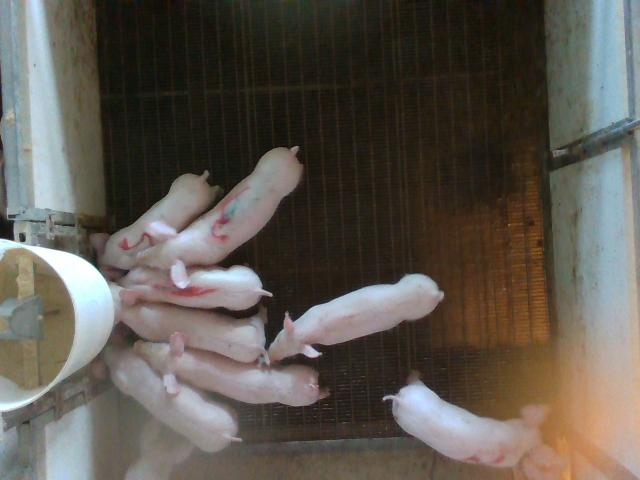pig-1: (119, 265, 272, 311)
pig-2: (384, 374, 548, 467)
pig-3: (136, 146, 302, 288)
pig-5: (90, 171, 220, 269)
